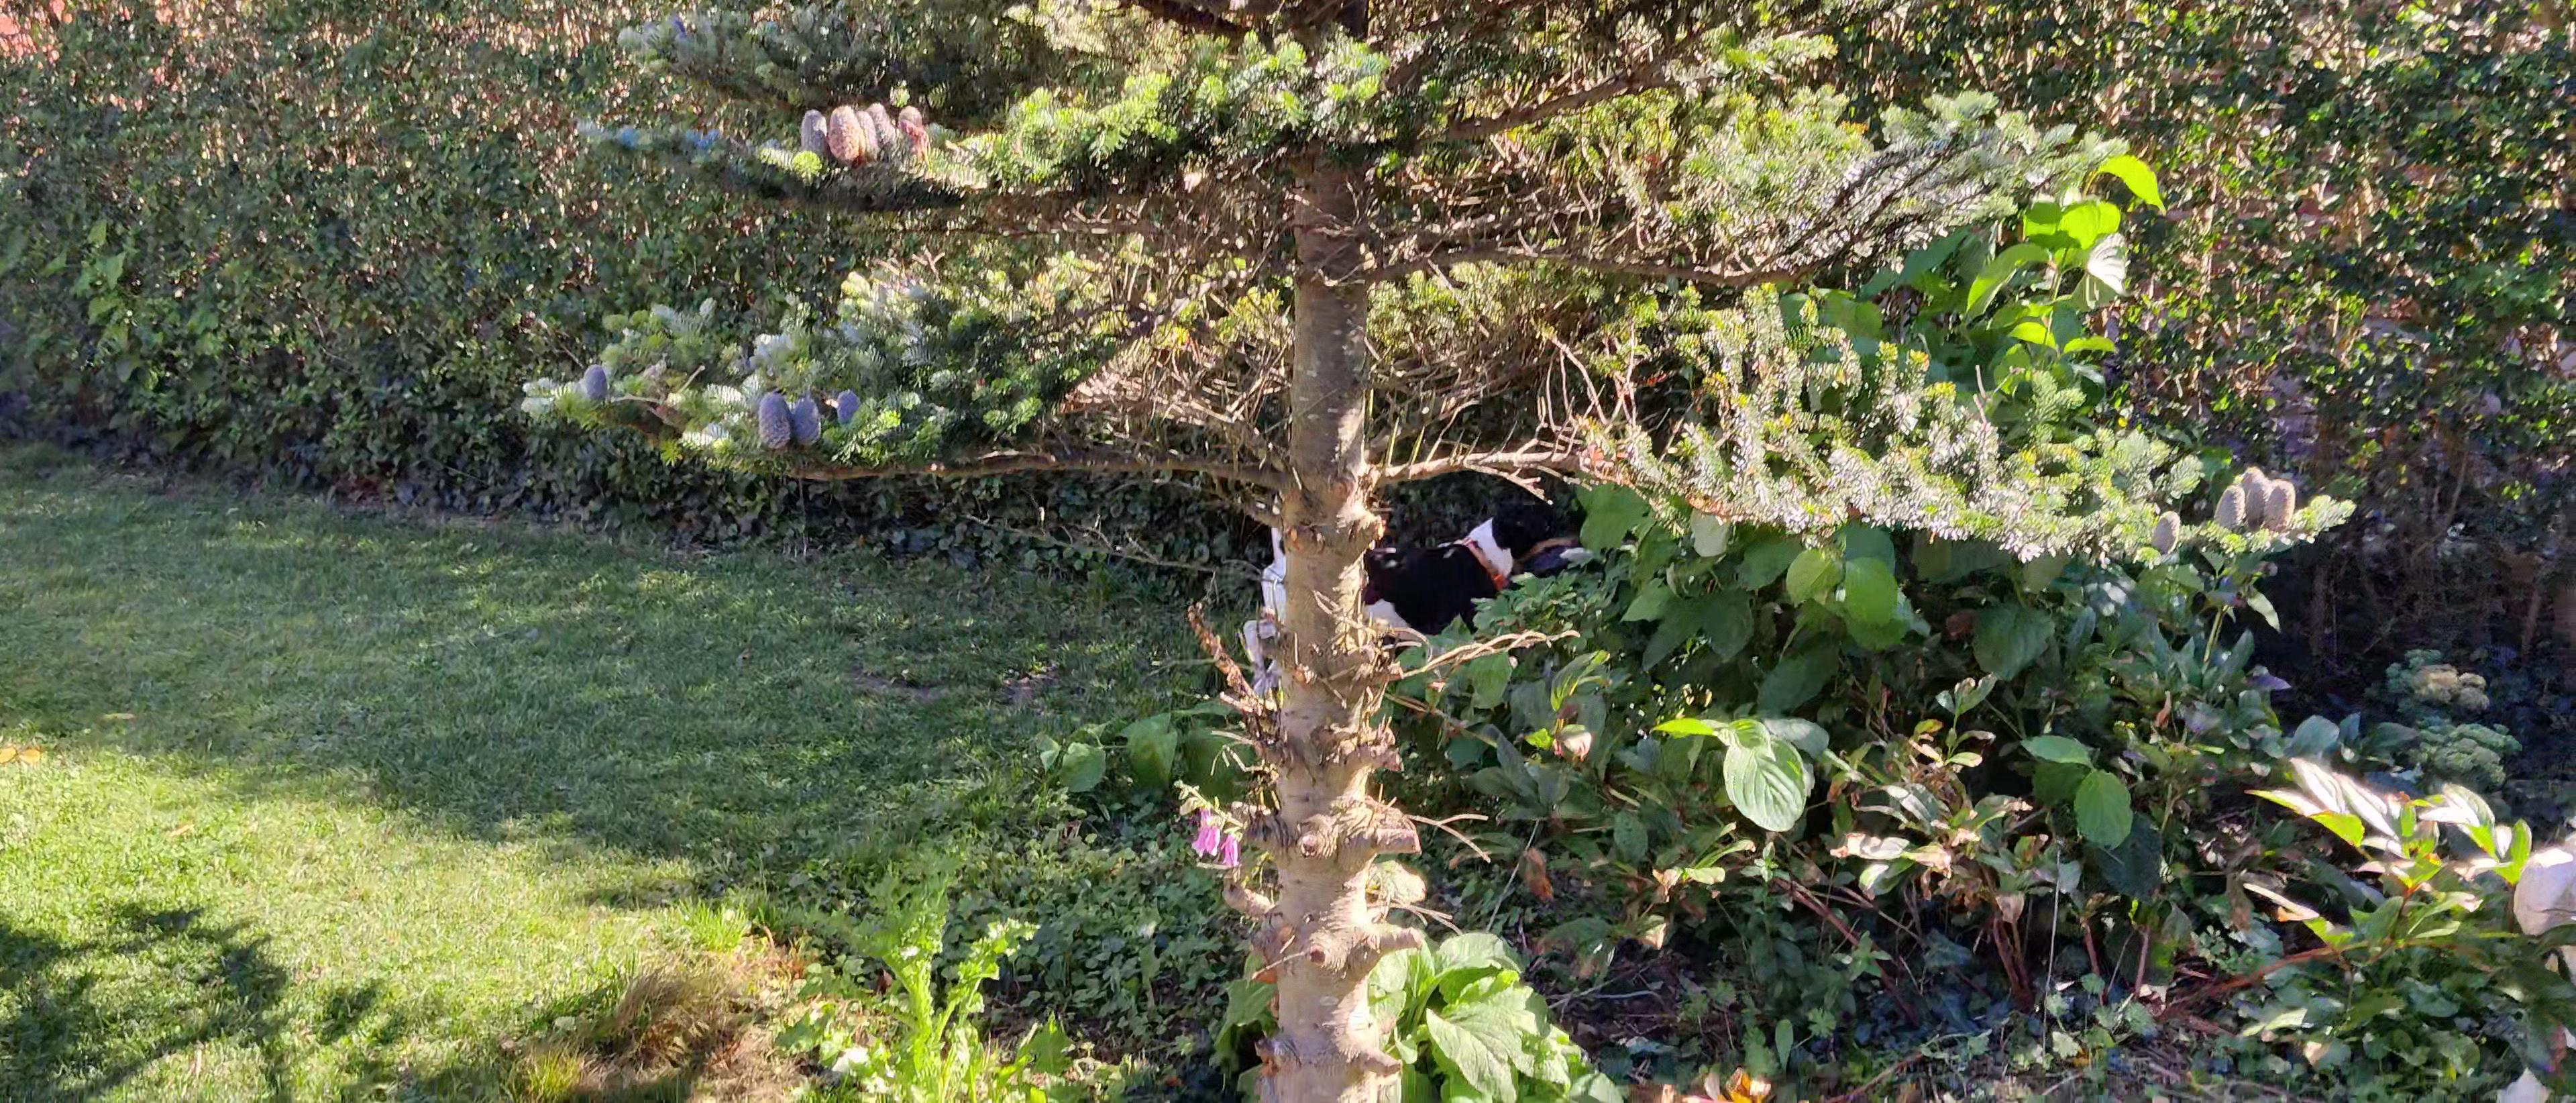Dog: (1235, 487, 1585, 692)
